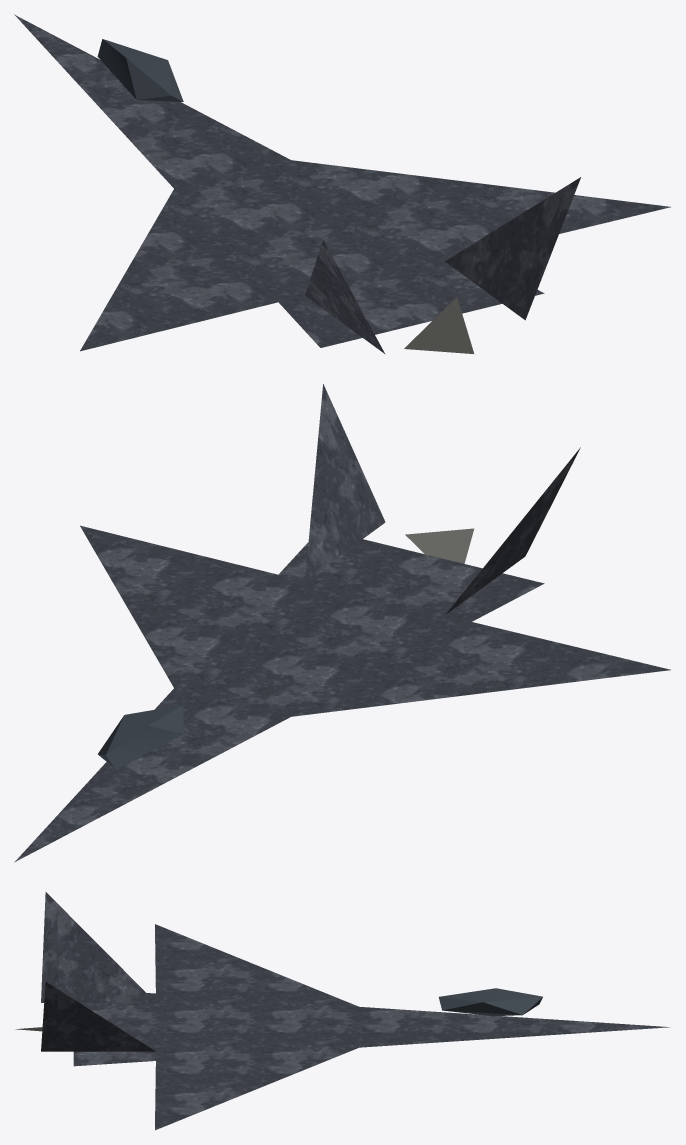
The model's file is air_e4_us_stealth_LOD2.glb.
3 views of the same model, one above another, from view 1: azimuth 30°, elevation 25°; view 2: azimuth 150°, elevation 25°; view 3: azimuth 270°, elevation 25° (orthographic). The views are drawn at different scales.
Visible parts, largest first — view 1: air_e4_us_stealth_LOD2_body, air_e4_us_stealth_LOD2_glass, air_e4_us_stealth_LOD2_gun; view 2: air_e4_us_stealth_LOD2_body, air_e4_us_stealth_LOD2_glass, air_e4_us_stealth_LOD2_gun; view 3: air_e4_us_stealth_LOD2_body, air_e4_us_stealth_LOD2_glass.
Boxes of the visible parts, x1,y1,x2,y2 form: air_e4_us_stealth_LOD2_body: (14,14,670,354); air_e4_us_stealth_LOD2_glass: (97,39,183,101); air_e4_us_stealth_LOD2_gun: (404,297,474,353); air_e4_us_stealth_LOD2_body: (14,384,670,862); air_e4_us_stealth_LOD2_glass: (98,705,183,768); air_e4_us_stealth_LOD2_gun: (405,528,474,563); air_e4_us_stealth_LOD2_body: (41,892,670,1130); air_e4_us_stealth_LOD2_glass: (438,988,542,1016).
Size of the model in its own units: 11.01 by 2.66 by 14.83.
Materials: 3 (1 with a texture image).
